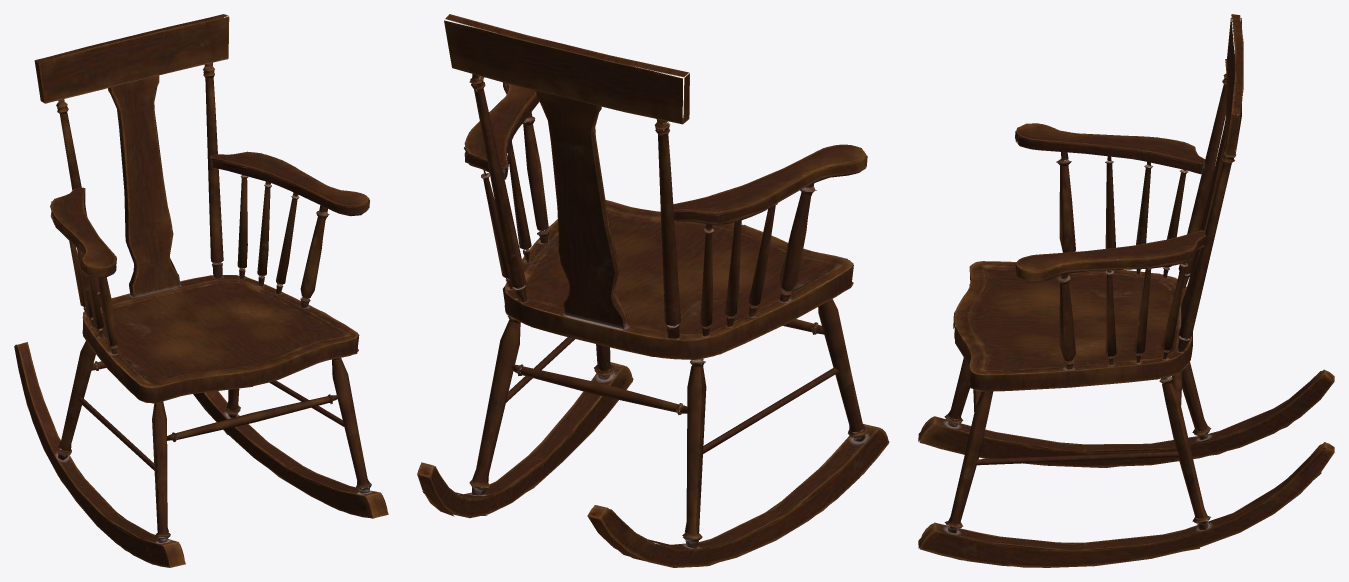
Rendered from isl_rocker.glb.
The picture shows the model from 3 angles, left to right: view 1: azimuth 30°, elevation 25°; view 2: azimuth 150°, elevation 25°; view 3: azimuth 270°, elevation 25°; orthographic projection. The views are drawn at different scales.
Parts seen in each view (by area): view 1: Rockingchair_01; view 2: Rockingchair_01; view 3: Rockingchair_01.
Boxes of the visible parts, x1=… form: Rockingchair_01: x1=14, y1=14, x2=388, y2=567; Rockingchair_01: x1=417, y1=14, x2=889, y2=567; Rockingchair_01: x1=918, y1=14, x2=1334, y2=567.
Size of the model in its own units: 0.7093 by 0.9956 by 0.8365.
1 material, 1 textured.
